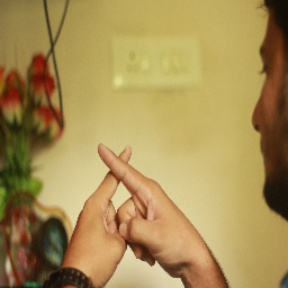X: (63, 128, 188, 225)
